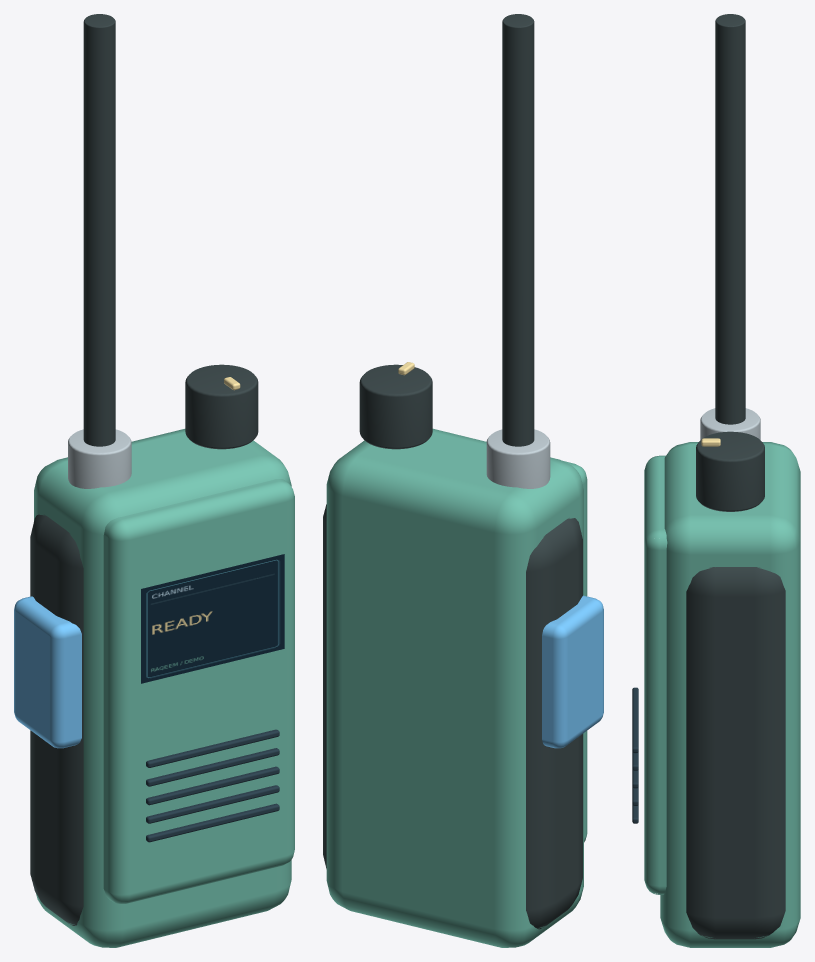
Rendered from handheld_radio.glb.
3 renders of one model, left to right at view 1: azimuth 30°, elevation 25°; view 2: azimuth 150°, elevation 25°; view 3: azimuth 270°, elevation 25°, orthographic. The views are drawn at different scales.
Visible parts, largest first — view 1: Front_Panel, Radio_Body, Antenna, Radio_Bumper, LCD, Talk_Button, Knob, Antenna_Base, Speaker_Slot, Speaker_Slot_3, Speaker_Slot_2, Speaker_Slot_5 (+1 smaller); view 2: Radio_Body, Radio_Bumper, Antenna, Talk_Button, Knob, Antenna_Base, Front_Panel; view 3: Radio_Bumper, Radio_Body, Antenna, Front_Panel, Knob, Antenna_Base, Speaker_Slot_5.
Boxes of the visible parts, x1=… form: Front_Panel: x1=103, y1=479, x2=294, y2=903; Radio_Body: x1=34, y1=429, x2=291, y2=947; Antenna: x1=83, y1=14, x2=115, y2=446; Radio_Bumper: x1=30, y1=514, x2=83, y2=925; LCD: x1=141, y1=554, x2=284, y2=683; Talk_Button: x1=14, y1=596, x2=81, y2=748; Knob: x1=185, y1=364, x2=258, y2=449; Antenna_Base: x1=68, y1=429, x2=131, y2=488; Speaker_Slot: x1=146, y1=803, x2=279, y2=842; Speaker_Slot_3: x1=146, y1=766, x2=279, y2=805; Speaker_Slot_2: x1=146, y1=785, x2=279, y2=823; Speaker_Slot_5: x1=146, y1=729, x2=279, y2=767; Radio_Body: x1=326, y1=428, x2=583, y2=947; Radio_Bumper: x1=323, y1=504, x2=582, y2=929; Antenna: x1=502, y1=14, x2=534, y2=446; Talk_Button: x1=542, y1=595, x2=603, y2=748; Knob: x1=359, y1=364, x2=432, y2=449; Antenna_Base: x1=486, y1=429, x2=550, y2=488; Front_Panel: x1=562, y1=460, x2=587, y2=842; Radio_Bumper: x1=686, y1=567, x2=785, y2=939; Radio_Body: x1=660, y1=442, x2=800, y2=947; Antenna: x1=715, y1=14, x2=745, y2=424; Front_Panel: x1=644, y1=455, x2=667, y2=894; Knob: x1=696, y1=431, x2=764, y2=511; Antenna_Base: x1=700, y1=408, x2=760, y2=439; Speaker_Slot_5: x1=632, y1=687, x2=638, y2=753.
Bounding box in the file's own units: 0.124 × 0.44 × 0.078.
7 materials, 1 textured.
